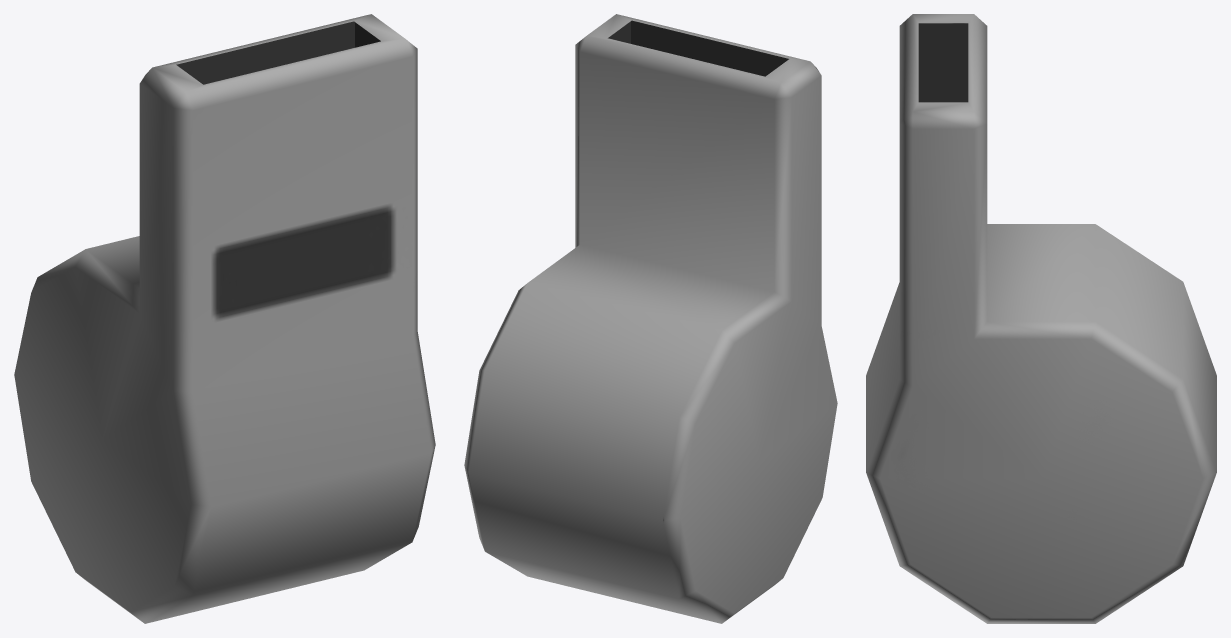
File: ttj_sound_whistle.fbx
3 views of the same model, side by side, from view 1: azimuth 30°, elevation 25°; view 2: azimuth 150°, elevation 25°; view 3: azimuth 270°, elevation 25° (orthographic). The views are drawn at different scales.
Parts seen in each view (by area): view 1: pCylinder1; view 2: pCylinder1; view 3: pCylinder1.
Boxes of the visible parts, box(x1,y1,x2,y2) form: pCylinder1: box(14, 14, 435, 623); pCylinder1: box(464, 14, 837, 623); pCylinder1: box(866, 14, 1216, 623).
Size of the model in its own units: 6.03 by 13.25 by 8.22.
